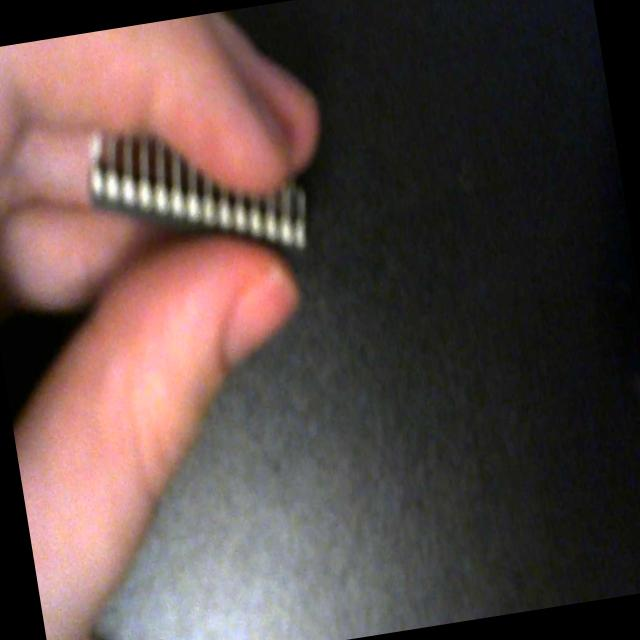atmega: (76, 93, 318, 288)
